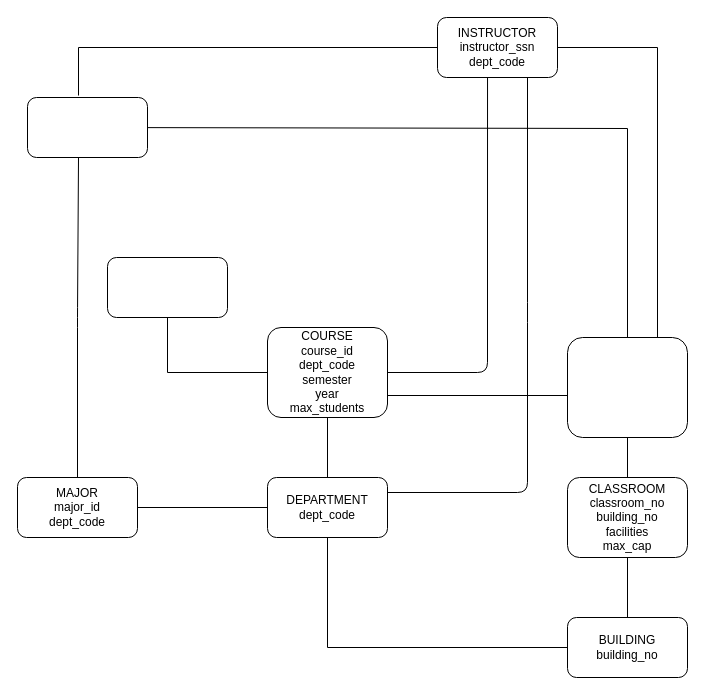
This 705x695 diagram has some shape labels left out. The centre of each missing label's shape, as x and y in pixels:
"SECTION section_no course_id classroom_no building_no instructor_ssn" belongs at (627,387).
"STUDENT student_ssn major_id" belongs at (87,127).
"TIME semester year" belongs at (167,287).
